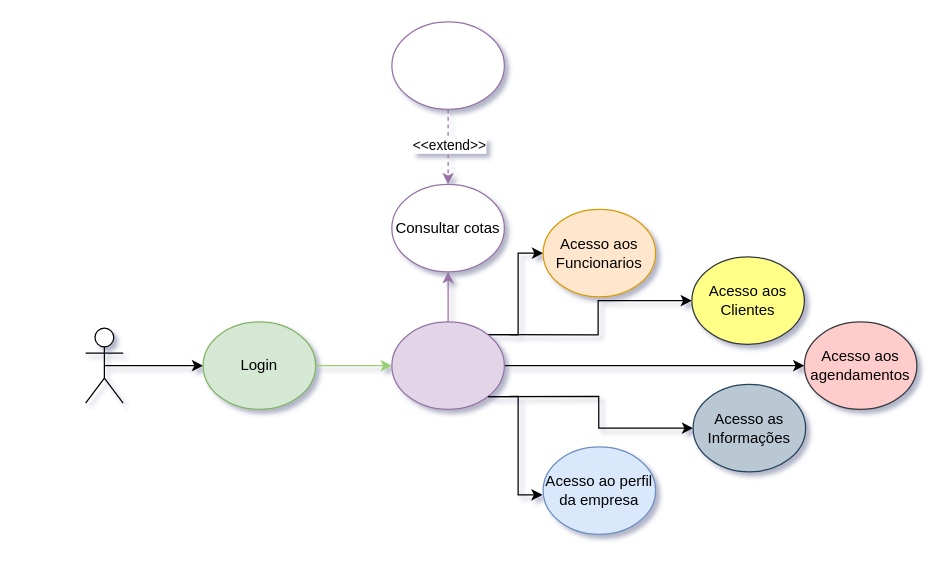
Some shapes in this 946 by 564 pixel diagram are drawn without their labels. Each missing label, with the centre of its shape:
"Acesso a conta" belongs at (447,365).
"Empreendedor/Utilizador" belongs at (103,365).
"Solicitar mais cotas" belongs at (447,65).
